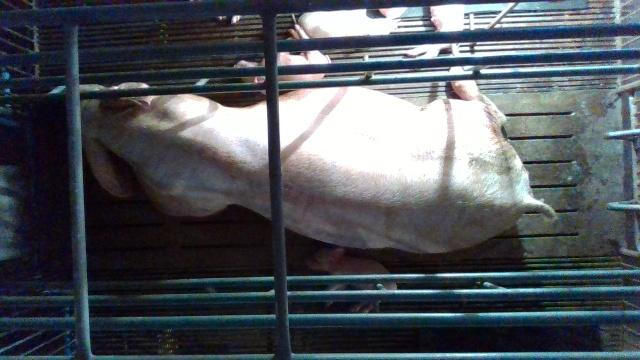piglet: (303, 247, 397, 314), (232, 24, 330, 82), (406, 5, 465, 58), (297, 9, 398, 37)
sow-sit: (50, 82, 555, 253)
